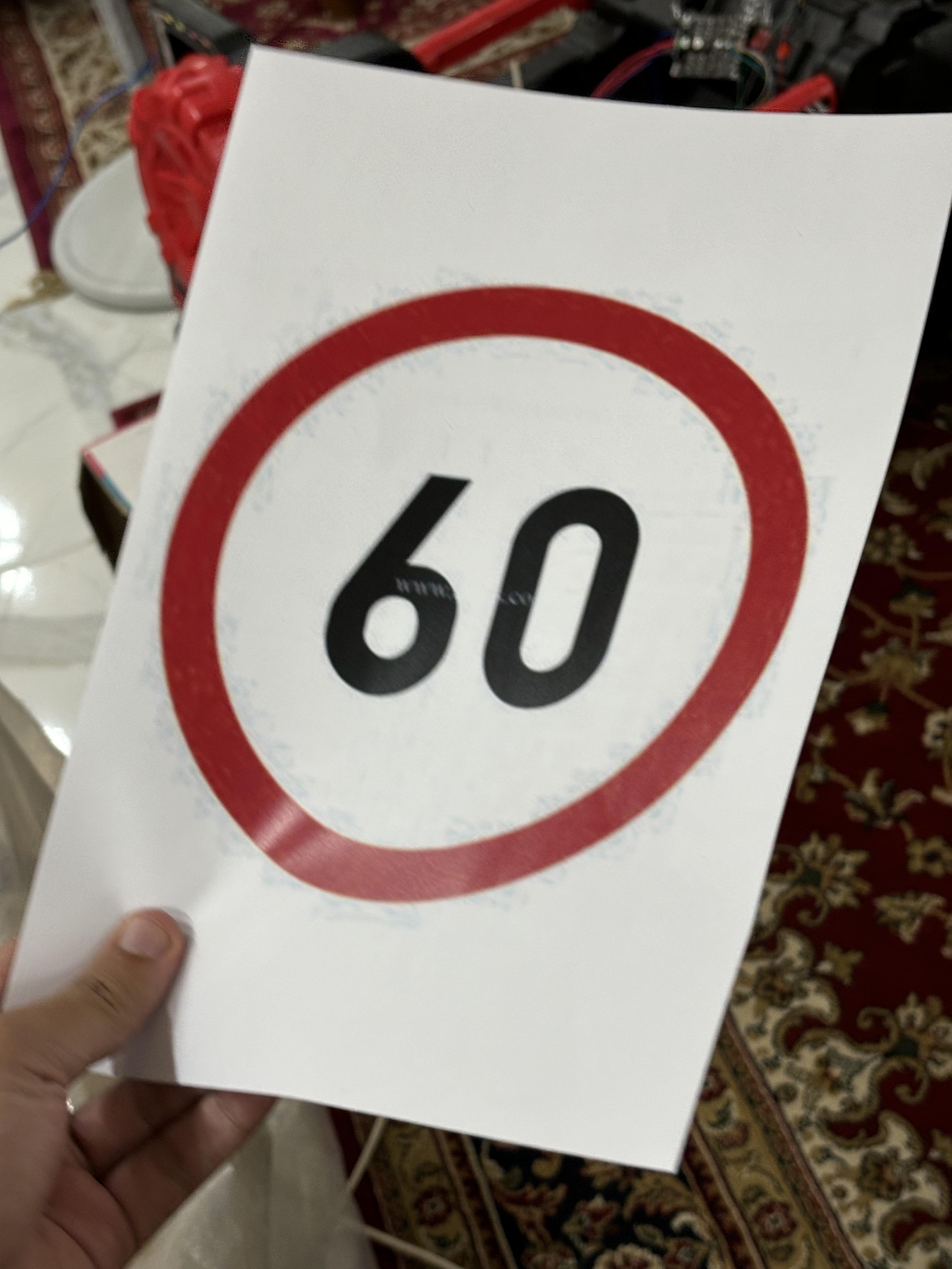60-Speed: (155, 274, 810, 901)
